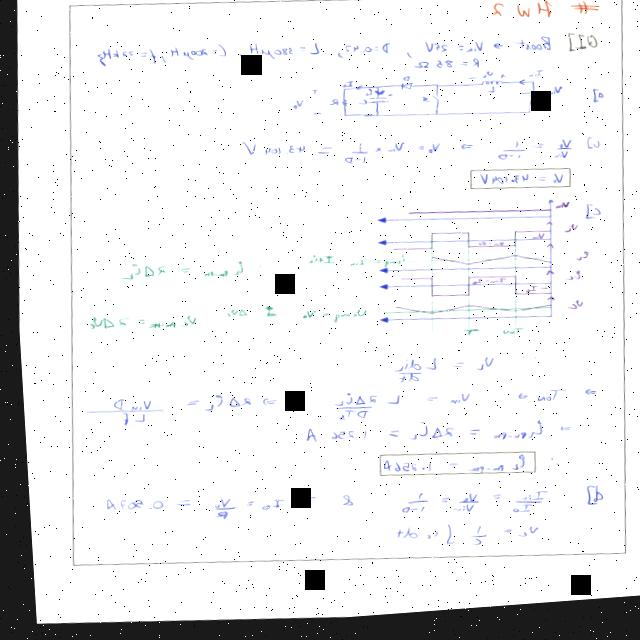capacitor: (362, 90, 394, 115)
diode: (387, 81, 417, 99)
inductor: (472, 83, 507, 98)
resistor: (334, 99, 349, 115)
source: (513, 94, 549, 110)
switch: (421, 98, 442, 113)
